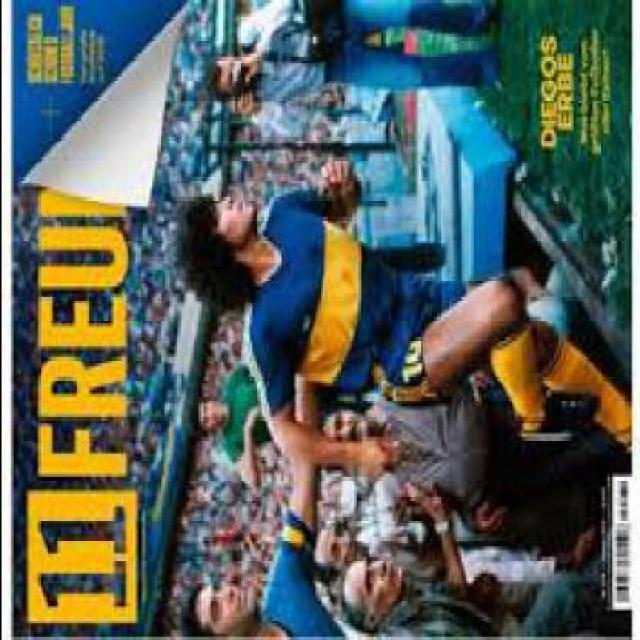PAPER: (6, 3, 626, 639)
